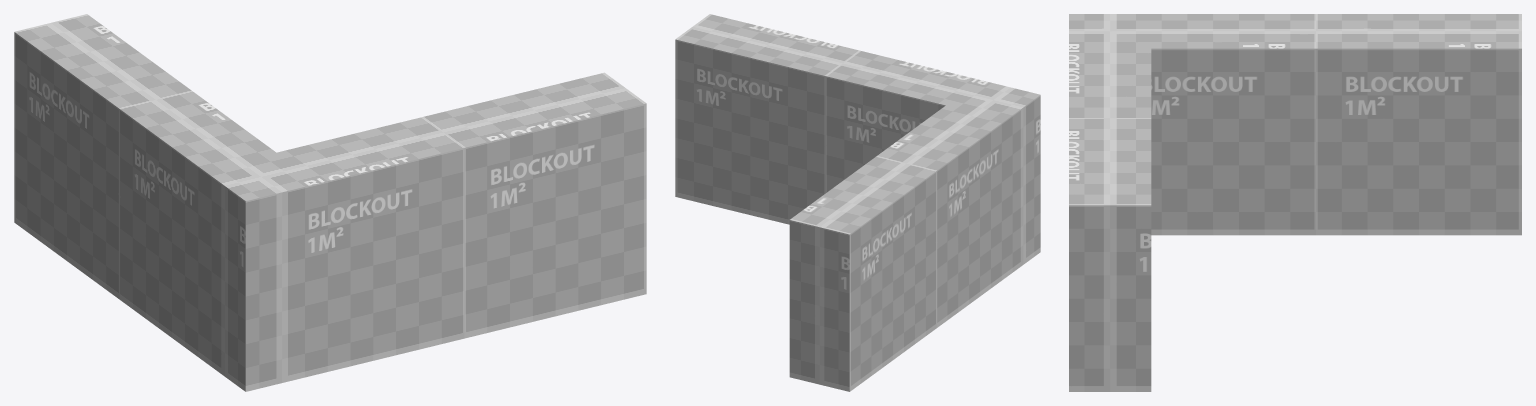
The model's file is BlockoutEdgeFullThinJunctionTwoWay.fbx.
3 renders of one model, left to right at view 1: azimuth 30°, elevation 25°; view 2: azimuth 150°, elevation 25°; view 3: azimuth 270°, elevation 25°, orthographic. The views are drawn at different scales.
Visible parts, largest first — view 1: BlockoutEdgeFullThinJunctionTwoWay; view 2: BlockoutEdgeFullThinJunctionTwoWay; view 3: BlockoutEdgeFullThinJunctionTwoWay.
Part boxes in pixels (x1,y1,x2,y2): BlockoutEdgeFullThinJunctionTwoWay: (14, 14, 646, 391); BlockoutEdgeFullThinJunctionTwoWay: (675, 14, 1040, 391); BlockoutEdgeFullThinJunctionTwoWay: (1069, 14, 1521, 391).
Size of the model in its own units: 220 by 100 by 220.
